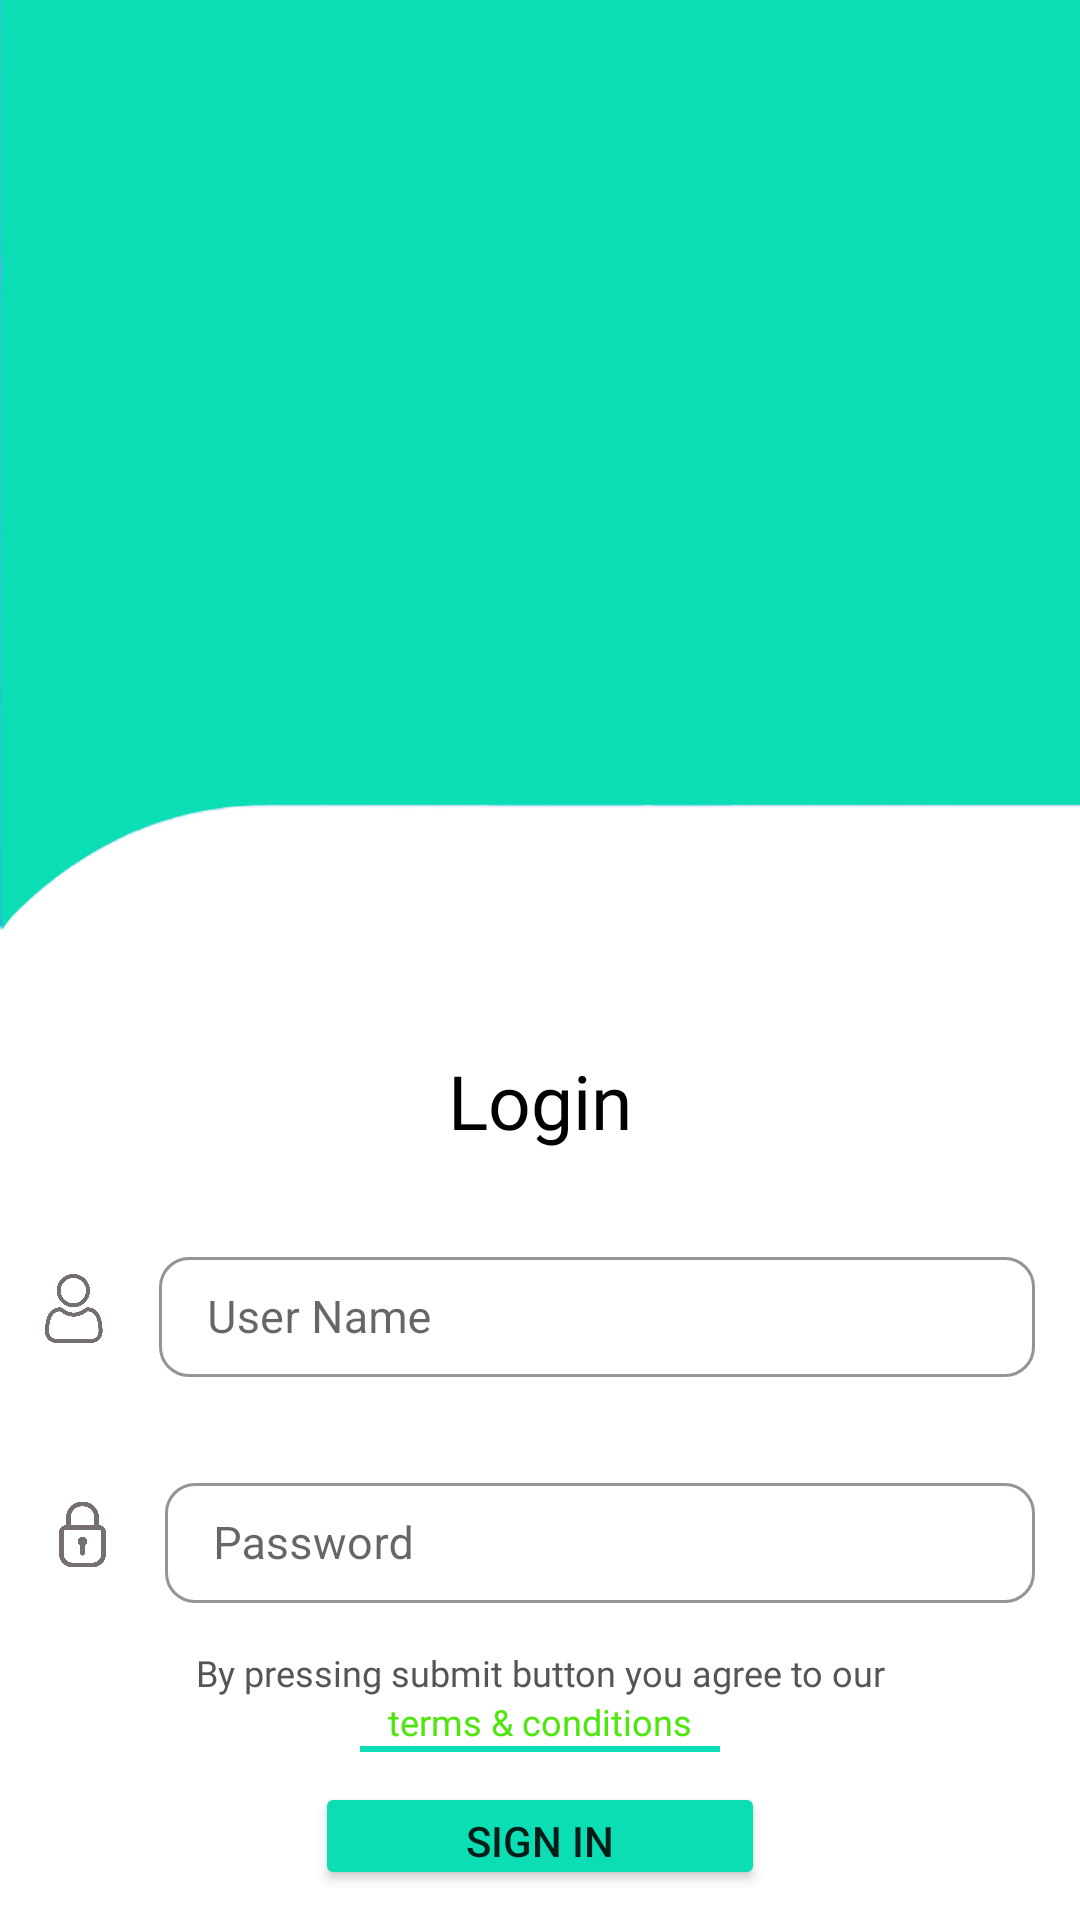

Icons on this 1080x1920 Android screen, each with its box as bbox(x1, y1, x2, y2):
lock: bbox(59, 1502, 106, 1567)
